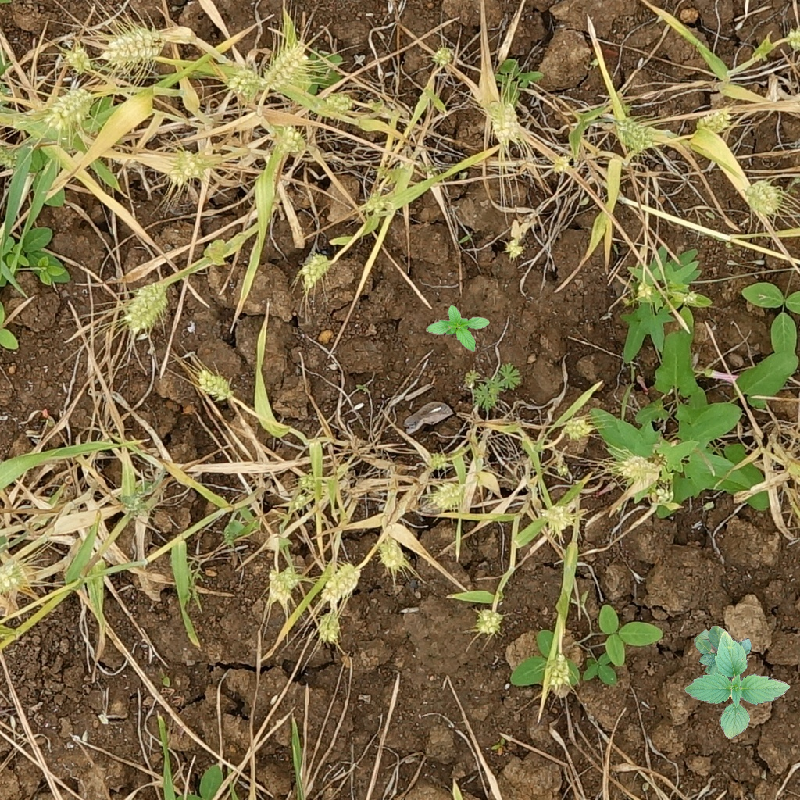spikelet: (100, 25, 163, 68), (122, 280, 169, 333), (43, 86, 96, 131), (262, 39, 309, 89), (320, 559, 361, 602), (614, 451, 663, 486), (742, 177, 783, 217), (540, 650, 575, 696), (167, 147, 210, 184), (487, 97, 522, 142), (427, 478, 473, 511), (193, 366, 235, 402), (613, 115, 655, 151), (297, 250, 331, 290), (265, 563, 299, 603), (271, 122, 308, 157), (375, 533, 408, 572), (538, 500, 574, 535), (226, 65, 264, 97), (1, 556, 31, 595), (59, 42, 94, 74), (315, 607, 343, 644), (560, 413, 595, 442), (696, 107, 733, 133), (473, 605, 503, 634), (296, 471, 328, 498), (362, 188, 391, 217), (648, 484, 676, 509), (430, 43, 456, 69), (632, 278, 658, 304), (423, 449, 452, 472), (784, 24, 800, 56), (550, 152, 572, 175)
weed: (662, 611, 794, 744), (603, 388, 746, 458), (680, 447, 770, 515), (655, 241, 721, 324), (590, 600, 666, 667), (1, 223, 74, 292), (743, 281, 800, 358), (426, 305, 490, 352), (464, 361, 523, 407), (580, 654, 621, 689)
